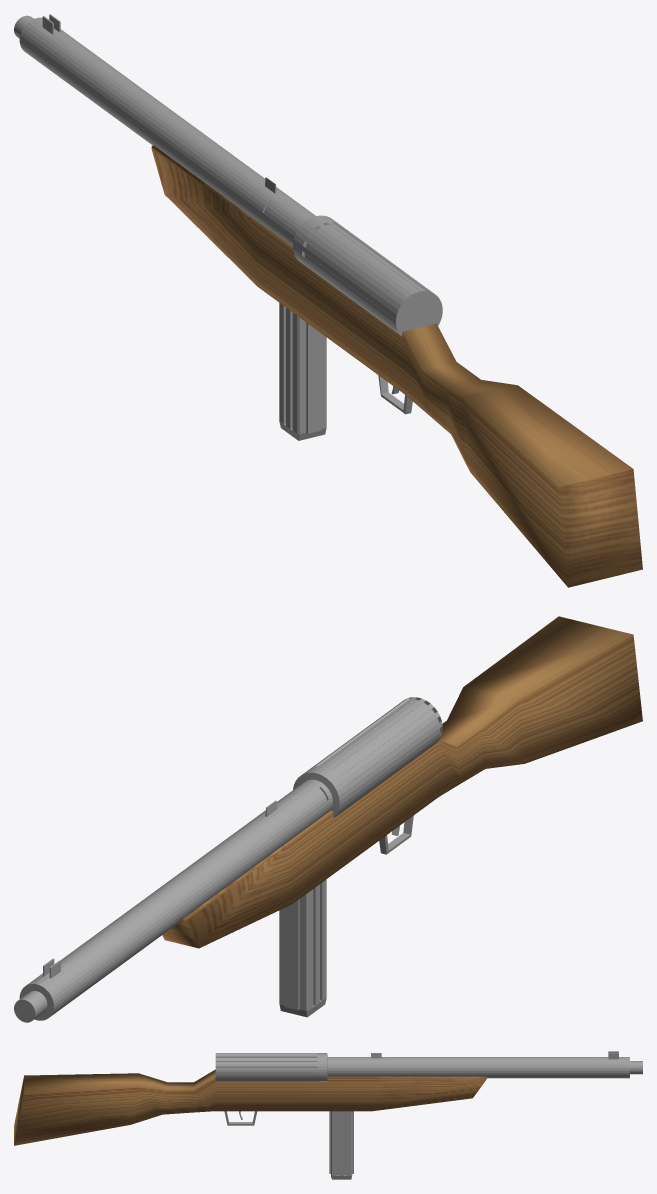
File: vsgwr.gltf
3 views of the same model, one above another, from view 1: azimuth 30°, elevation 25°; view 2: azimuth 150°, elevation 25°; view 3: azimuth 270°, elevation 25° (orthographic). The views are drawn at different scales.
Visible parts, largest first — view 1: Cube, Cylinder, Cube.003; view 2: Cube, Cylinder, Cube.003; view 3: Cube, Cylinder, Cube.003.
Boxes of the visible parts, box(x1,y1,x2,y2) form: Cube: box(151, 145, 642, 587); Cylinder: box(14, 14, 442, 335); Cube.003: box(279, 303, 326, 440); Cube: box(162, 616, 642, 948); Cylinder: box(14, 697, 442, 1022); Cube.003: box(279, 879, 326, 1017); Cube: box(14, 1069, 486, 1145); Cylinder: box(215, 1051, 642, 1081); Cube.003: box(329, 1111, 353, 1179).
Size of the model in its own units: 0.785 by 2.29 by 10.57.
Materials: 2 (1 with a texture image).
